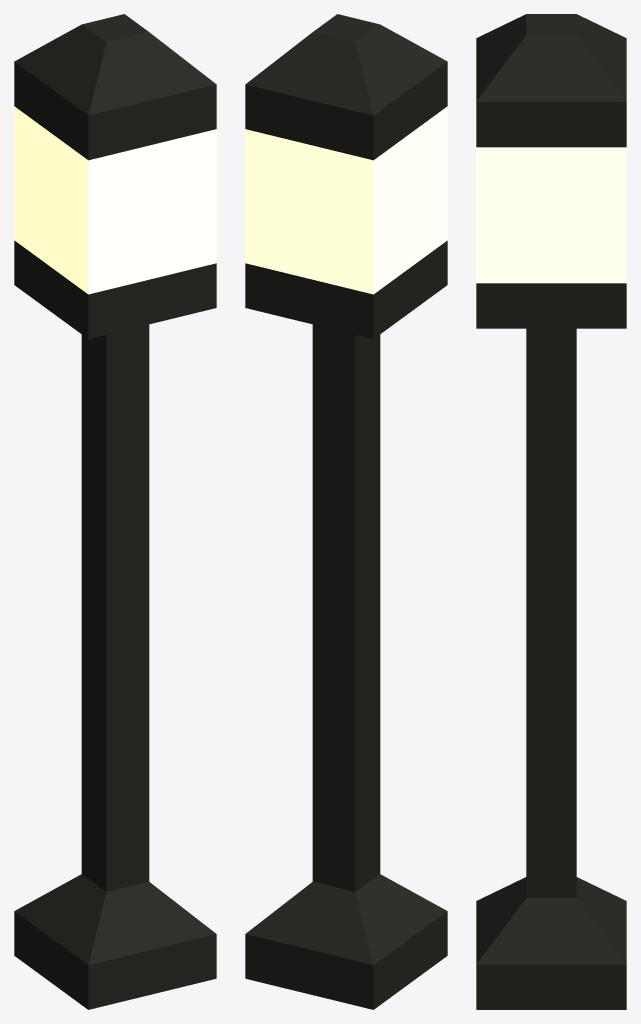
File: street_lamp.glb
3 views of the same model, side by side, from view 1: azimuth 30°, elevation 25°; view 2: azimuth 150°, elevation 25°; view 3: azimuth 270°, elevation 25° (orthographic).
Parts seen in each view (by area): view 1: voxel_252520_matte, voxel_d8c098_emissive; view 2: voxel_252520_matte, voxel_d8c098_emissive; view 3: voxel_252520_matte, voxel_d8c098_emissive.
Boxes of the visible parts, left/top/right/bottom form: voxel_252520_matte: left=14, top=14, right=216, bottom=1009; voxel_d8c098_emissive: left=14, top=106, right=216, bottom=294; voxel_252520_matte: left=245, top=14, right=447, bottom=1009; voxel_d8c098_emissive: left=245, top=106, right=447, bottom=294; voxel_252520_matte: left=476, top=14, right=626, bottom=1009; voxel_d8c098_emissive: left=476, top=147, right=626, bottom=283.
Size of the model in its own units: 0.75 by 5.25 by 0.75.
